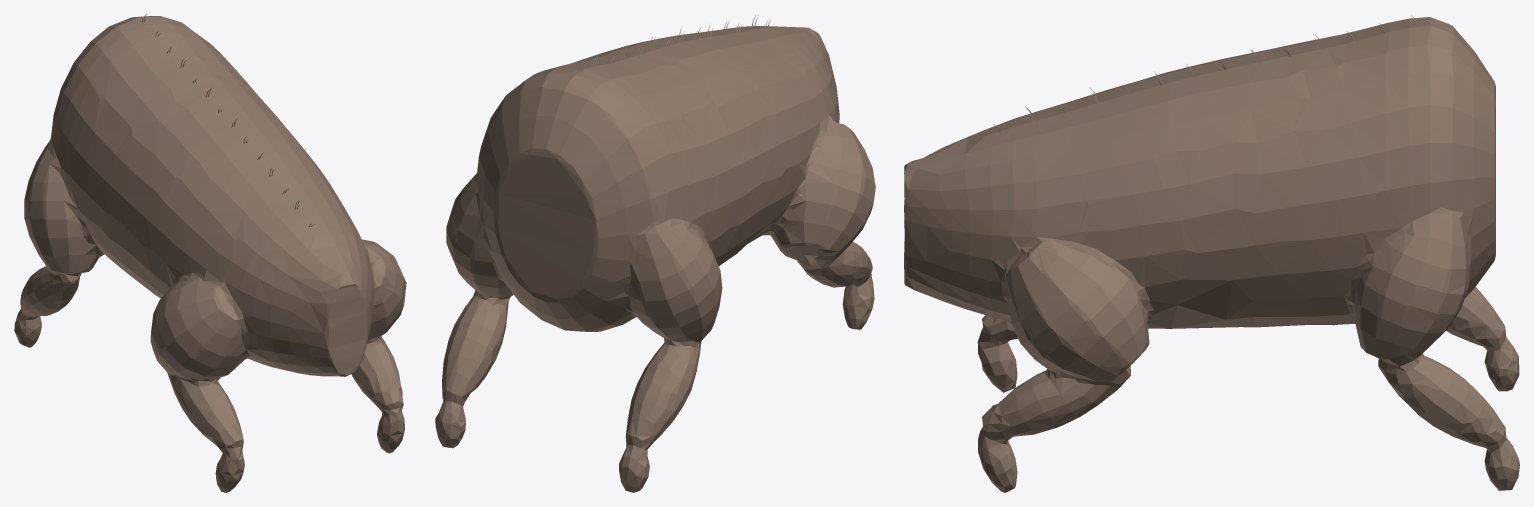
The model's file is boar_body_01.glb.
3 views of the same model, side by side, from view 1: azimuth 30°, elevation 25°; view 2: azimuth 150°, elevation 25°; view 3: azimuth 270°, elevation 25° (orthographic). The views are drawn at different scales.
Parts seen in each view (by area): view 1: ConnectedTorsoAndLimbs; view 2: ConnectedTorsoAndLimbs; view 3: ConnectedTorsoAndLimbs.
Part boxes in pixels (bbox=[...]): ConnectedTorsoAndLimbs: bbox=[14, 16, 406, 492]; ConnectedTorsoAndLimbs: bbox=[435, 26, 875, 492]; ConnectedTorsoAndLimbs: bbox=[904, 17, 1519, 492].
Size of the model in its own units: 1.05 by 1.43 by 1.87.
